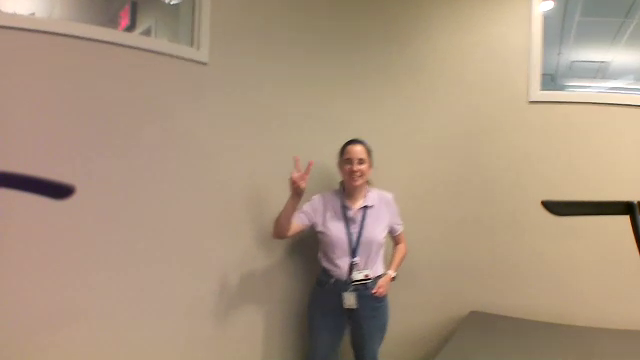peace: (282, 154, 323, 201)
